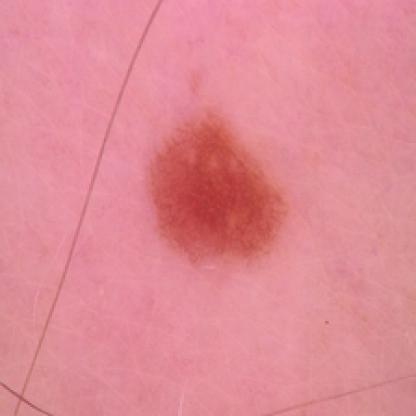benign: (145, 119, 295, 238)
